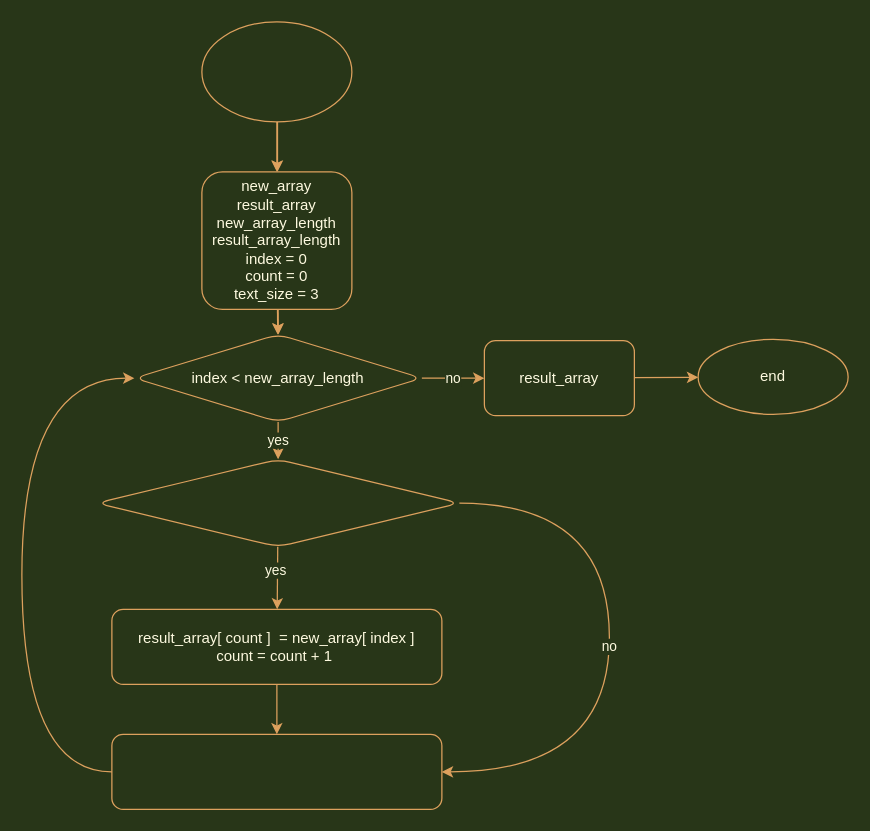
The diagram is 870 pixels wide and 831 high, and some of its shapes have lost their labels. Here are the shapes that lost their labels. From the top down, the centre of each, then its label:
At pixel 276 71: "Start".
At pixel 277 502: "new_array[ index ].Length <= text_size".
At pixel 276 771: "index = index + 1".
